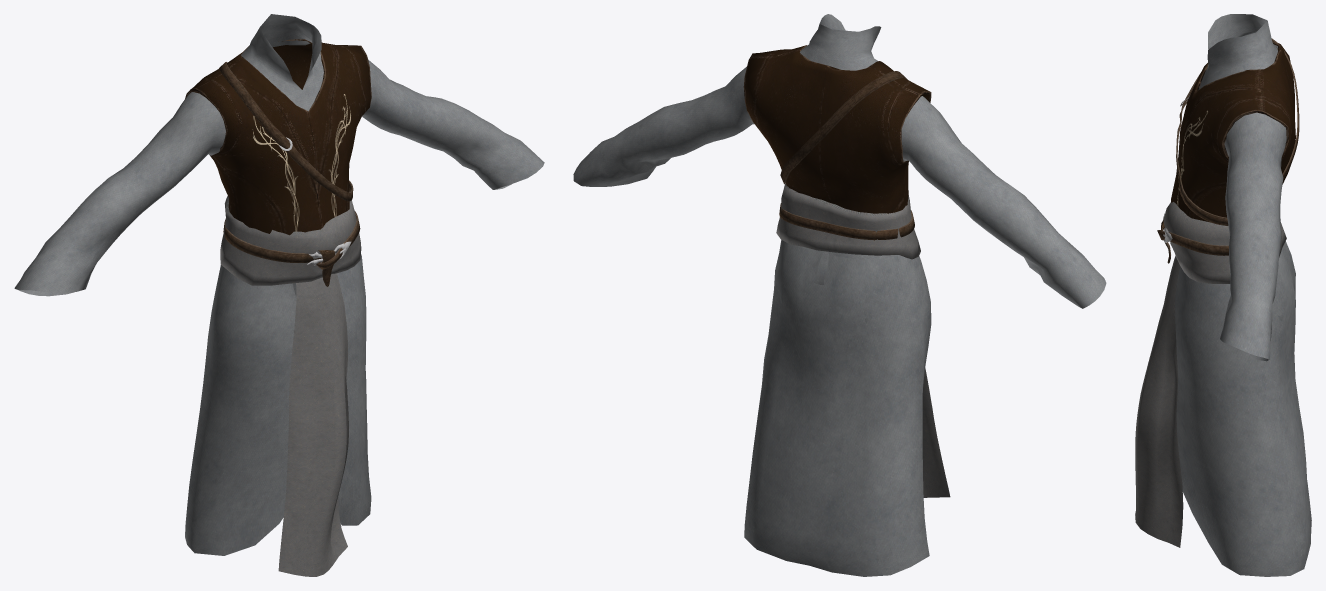
The model's file is rivendell_torso_light_light_tier2.fbx.
3 renders of one model, left to right at view 1: azimuth 30°, elevation 25°; view 2: azimuth 150°, elevation 25°; view 3: azimuth 270°, elevation 25°, orthographic.
Visible parts, largest first — view 1: rivendell_torso_light_light_tier2.0, rivendell_torso_light_light_tier2.1, rivendell_torso_light_light_tier2.2; view 2: rivendell_torso_light_light_tier2.0, rivendell_torso_light_light_tier2.2, rivendell_torso_light_light_tier2.1; view 3: rivendell_torso_light_light_tier2.0, rivendell_torso_light_light_tier2.1, rivendell_torso_light_light_tier2.2.
Boxes of the visible parts, x1=… form: rivendell_torso_light_light_tier2.0: x1=14, y1=14, x2=544, y2=555; rivendell_torso_light_light_tier2.1: x1=219, y1=62, x2=361, y2=576; rivendell_torso_light_light_tier2.2: x1=185, y1=39, x2=371, y2=235; rivendell_torso_light_light_tier2.0: x1=573, y1=14, x2=1106, y2=576; rivendell_torso_light_light_tier2.2: x1=743, y1=45, x2=931, y2=240; rivendell_torso_light_light_tier2.1: x1=776, y1=71, x2=950, y2=497; rivendell_torso_light_light_tier2.0: x1=1175, y1=14, x2=1311, y2=576; rivendell_torso_light_light_tier2.1: x1=1135, y1=38, x2=1299, y2=547; rivendell_torso_light_light_tier2.2: x1=1171, y1=41, x2=1295, y2=221.
Size of the model in its own units: 1.52 by 0.4435 by 1.45.
3 materials, 3 textured.
